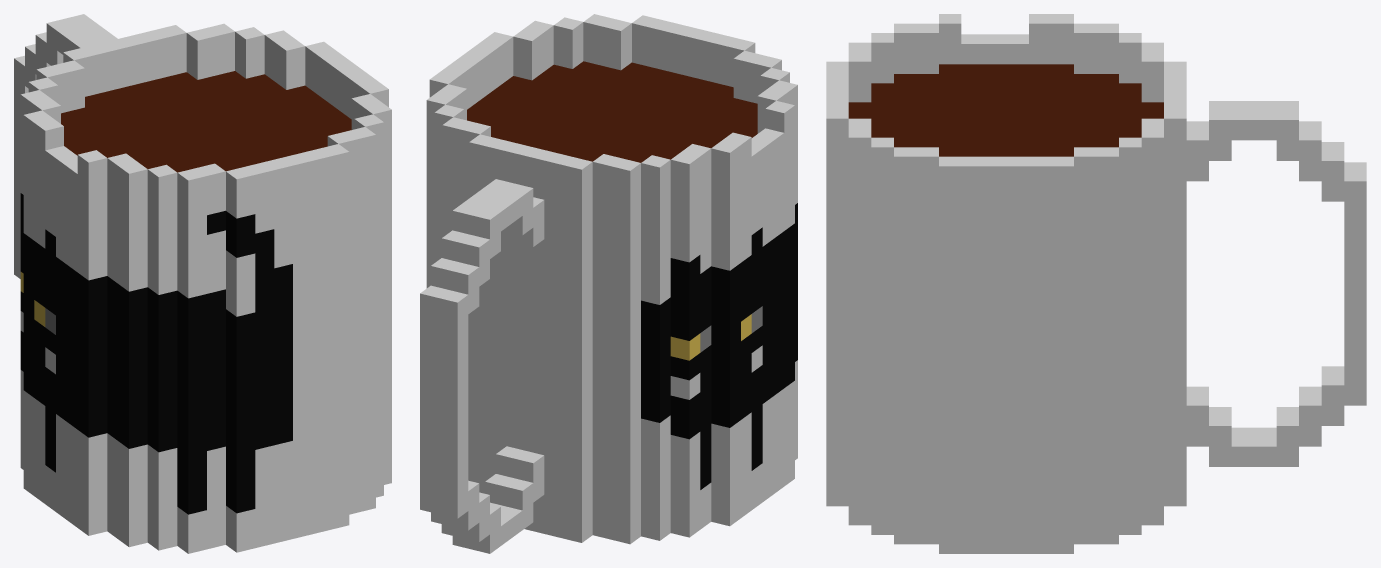
Rendered from voxel_mug.glb.
3 views of the same model, side by side, from view 1: azimuth 30°, elevation 25°; view 2: azimuth 150°, elevation 25°; view 3: azimuth 270°, elevation 25° (orthographic). The views are drawn at different scales.
Parts seen in each view (by area): view 1: VoxTransform; view 2: VoxTransform; view 3: VoxTransform.
Boxes of the visible parts, x1,y1,x2,y2 form: VoxTransform: (14,14,391,553); VoxTransform: (420,14,797,553); VoxTransform: (826,14,1366,553).
Size of the model in its own units: 16 by 19 by 24.
